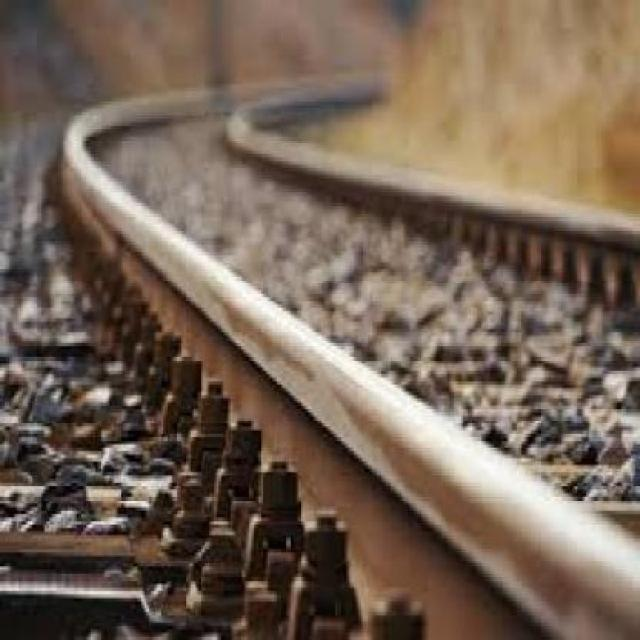rail: (21, 42, 634, 632)
